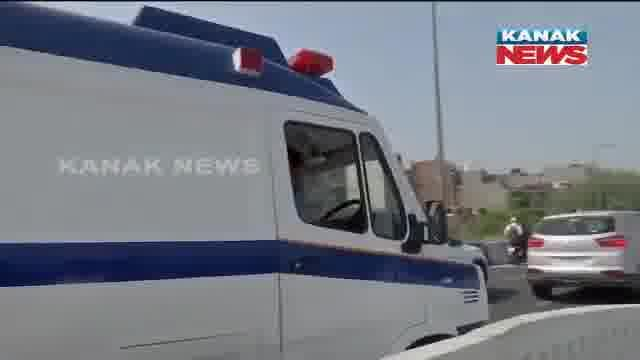AMBULANCE: (1, 2, 502, 360)
